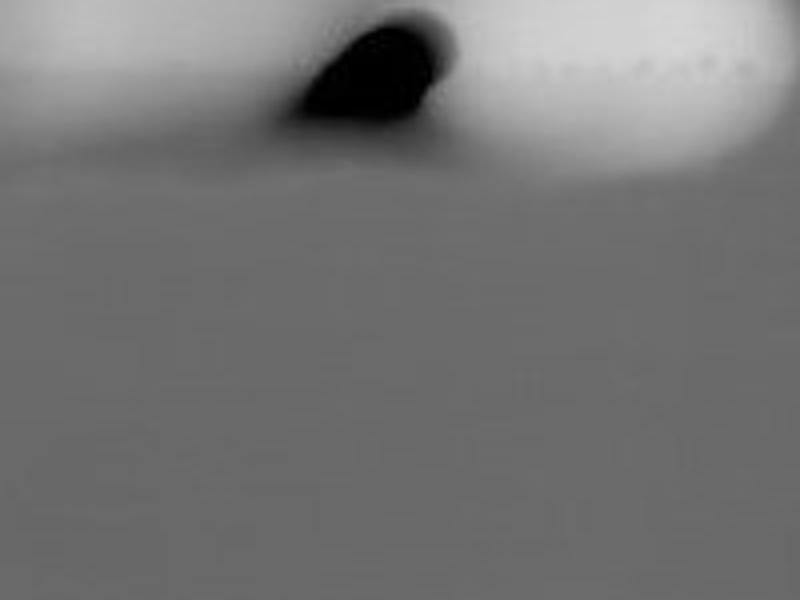defect: (298, 19, 449, 133)
